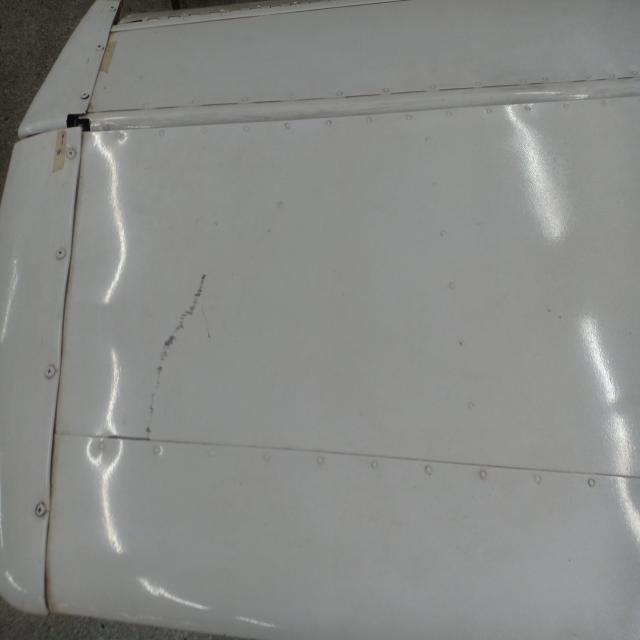Rupture: (130, 267, 213, 466)
